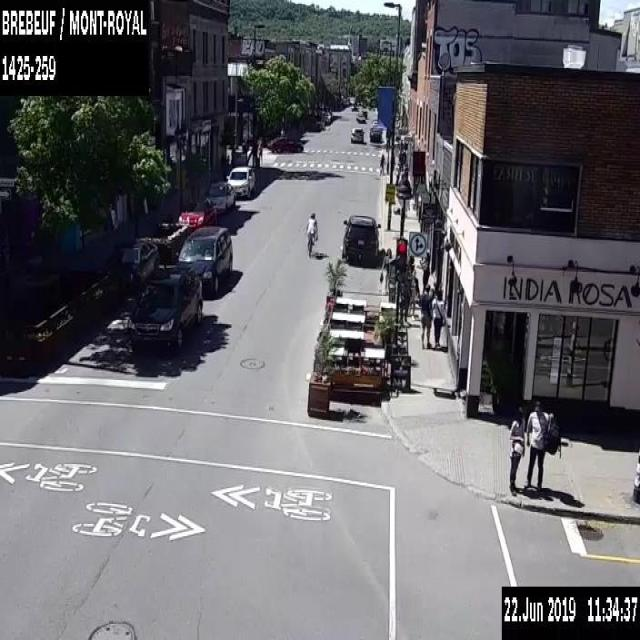cyclist: (306, 210, 316, 254)
pedestrian: (525, 400, 559, 487), (508, 408, 524, 498), (378, 247, 392, 296), (420, 283, 430, 347), (432, 292, 443, 349), (378, 152, 386, 175)
vehicle: (130, 269, 202, 348), (175, 224, 232, 298), (103, 240, 158, 293), (340, 212, 381, 265), (146, 220, 191, 263), (176, 194, 216, 228), (204, 180, 235, 212), (228, 168, 258, 199), (267, 136, 303, 152), (368, 119, 382, 140), (349, 125, 364, 142), (355, 110, 367, 122), (350, 102, 358, 110)
